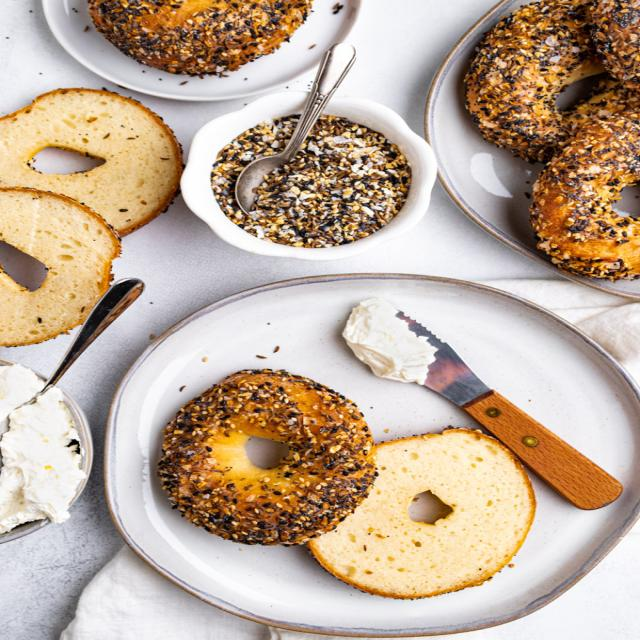Bagel: (308, 429, 534, 599), (158, 370, 377, 545), (465, 0, 640, 162), (0, 89, 182, 236), (0, 188, 120, 346), (531, 110, 639, 279), (89, 0, 311, 77)
